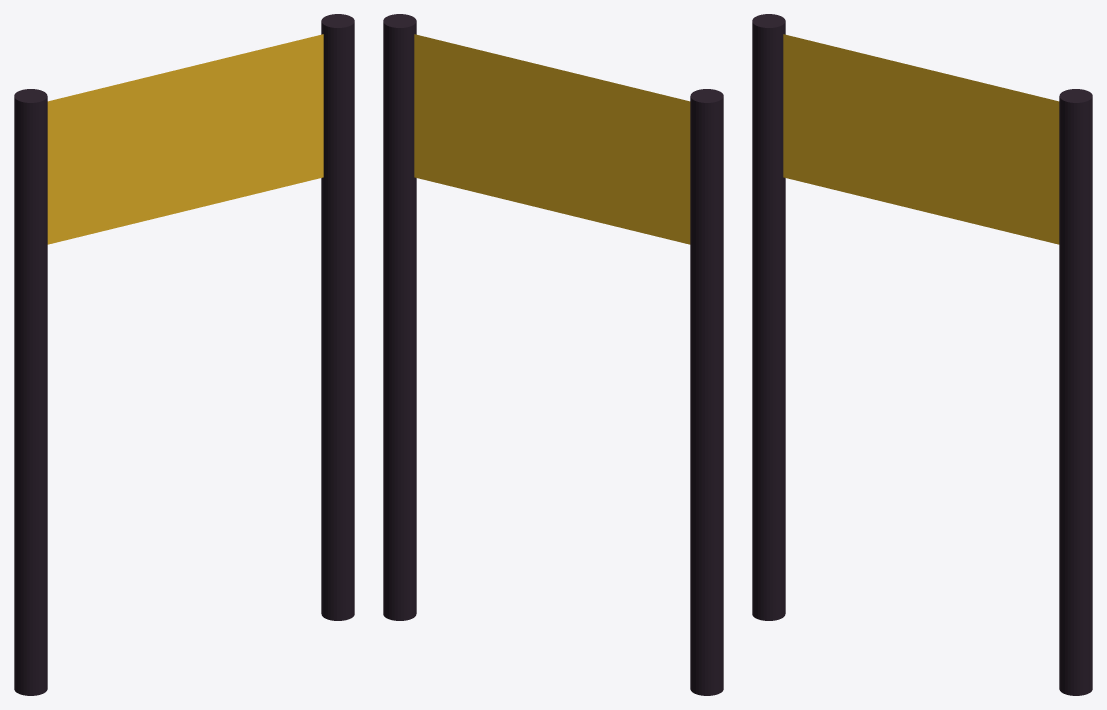
File: Gate.fbx
3 views of the same model, side by side, from view 1: azimuth 30°, elevation 25°; view 2: azimuth 150°, elevation 25°; view 3: azimuth 330°, elevation 25° (orthographic).
Visible parts, largest first — view 1: Cylinder.001; view 2: Cylinder.001; view 3: Cylinder.001.
Boxes of the visible parts, x1,y1,x2,y2 form: Cylinder.001: (14, 14, 354, 695); Cylinder.001: (383, 14, 723, 695); Cylinder.001: (752, 14, 1092, 695).
Bounding box in the file's own units: 220 × 372 × 18.93.
